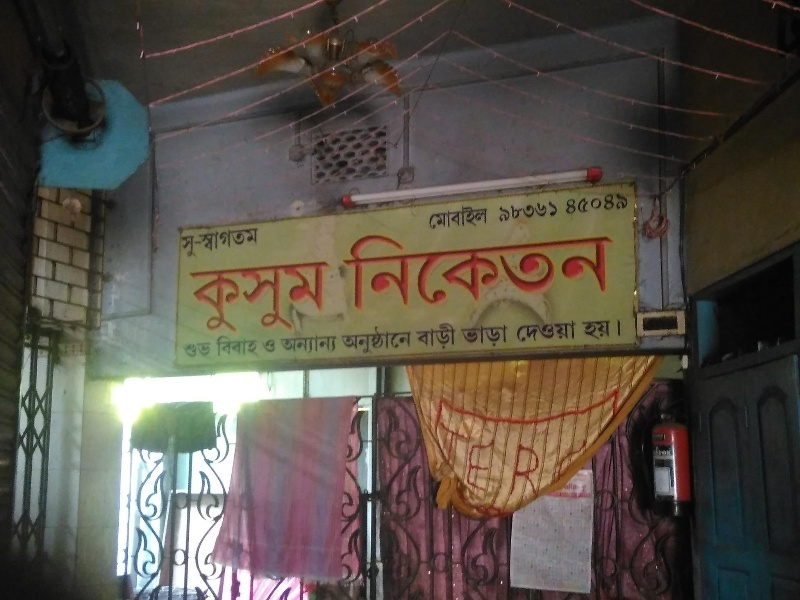text: (193, 255, 208, 338), (209, 255, 224, 338), (225, 255, 240, 338), (241, 255, 256, 338), (257, 255, 272, 338), (273, 255, 288, 338), (289, 255, 304, 338), (305, 255, 320, 338), (449, 420, 464, 500), (465, 420, 480, 500), (481, 420, 496, 500), (497, 420, 512, 500), (513, 420, 528, 500), (529, 420, 544, 500), (545, 420, 560, 500), (561, 420, 576, 500), (577, 420, 592, 500), (353, 235, 368, 311), (369, 235, 384, 311), (385, 235, 400, 311), (401, 235, 416, 311), (417, 235, 432, 311), (433, 235, 448, 311), (449, 235, 464, 311), (465, 235, 480, 311), (481, 235, 496, 311), (497, 235, 512, 311), (513, 235, 528, 311), (529, 235, 544, 311), (545, 235, 560, 311), (561, 235, 576, 311), (577, 235, 592, 311), (593, 235, 608, 311), (179, 255, 192, 338), (338, 235, 352, 311), (321, 255, 333, 338), (439, 420, 448, 500), (609, 235, 618, 311), (193, 225, 208, 260), (209, 225, 224, 260), (225, 225, 240, 260), (241, 225, 256, 260), (513, 190, 528, 225), (529, 190, 544, 225), (545, 190, 560, 225), (561, 190, 576, 225), (577, 190, 592, 225), (593, 190, 608, 225), (609, 190, 624, 225), (401, 324, 417, 355), (178, 225, 192, 260), (353, 324, 368, 355), (369, 324, 384, 355), (385, 324, 400, 355), (433, 201, 448, 232), (449, 201, 464, 232), (465, 201, 480, 232), (499, 190, 512, 225), (417, 322, 432, 350), (433, 322, 448, 350), (529, 318, 544, 345), (545, 318, 560, 345), (561, 318, 576, 345), (593, 317, 608, 342), (609, 317, 624, 342), (465, 324, 480, 348), (481, 324, 496, 348), (497, 324, 512, 348), (481, 201, 492, 232), (225, 334, 240, 356), (241, 334, 256, 356), (289, 332, 304, 354), (305, 332, 320, 354), (321, 332, 336, 354), (449, 322, 460, 350), (580, 317, 592, 342), (517, 318, 528, 345), (343, 324, 352, 355), (193, 342, 208, 359), (260, 338, 272, 355), (216, 334, 224, 356), (280, 332, 288, 354), (625, 190, 630, 225), (427, 201, 432, 232), (257, 225, 261, 260), (184, 342, 192, 359), (257, 334, 263, 356), (459, 324, 464, 348), (273, 338, 280, 355), (577, 492, 593, 499), (337, 332, 342, 354), (561, 492, 576, 499), (657, 449, 672, 456), (209, 342, 215, 359), (625, 317, 629, 342), (577, 484, 588, 492), (413, 322, 416, 350), (567, 484, 576, 492), (550, 492, 560, 499), (577, 318, 578, 345), (654, 449, 656, 456), (673, 449, 674, 456)
